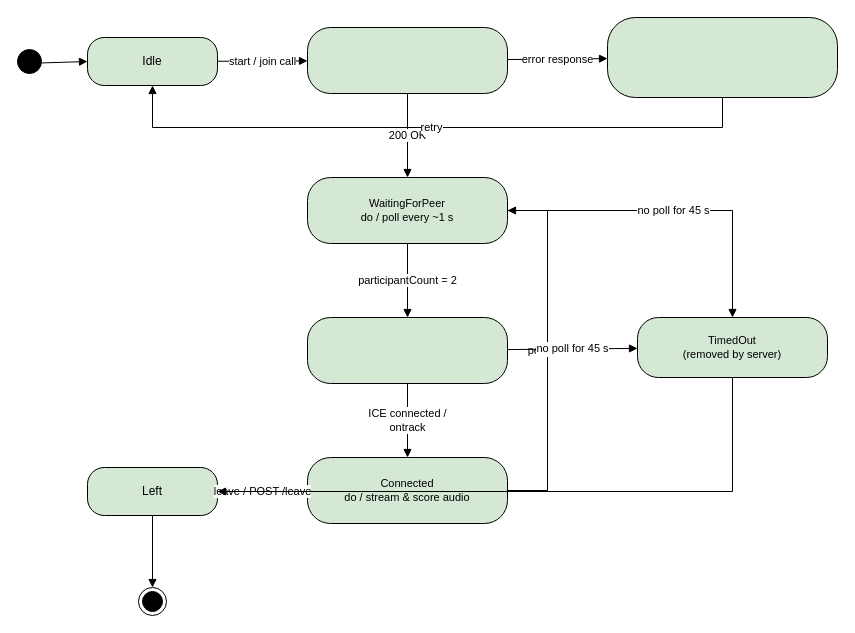
The diagram is 855 pixels wide and 633 high, and some of its shapes have lost their labels. The box of each missing label's shape, as (x1, y1, x2, y2) in pixels:
Joining entry / POST /join: (306, 26, 508, 94)
Negotiating do / exchange SDP & ICE: (306, 316, 508, 384)
Rejected (404 no room / 409 full / 503 too many rooms): (606, 16, 838, 98)
